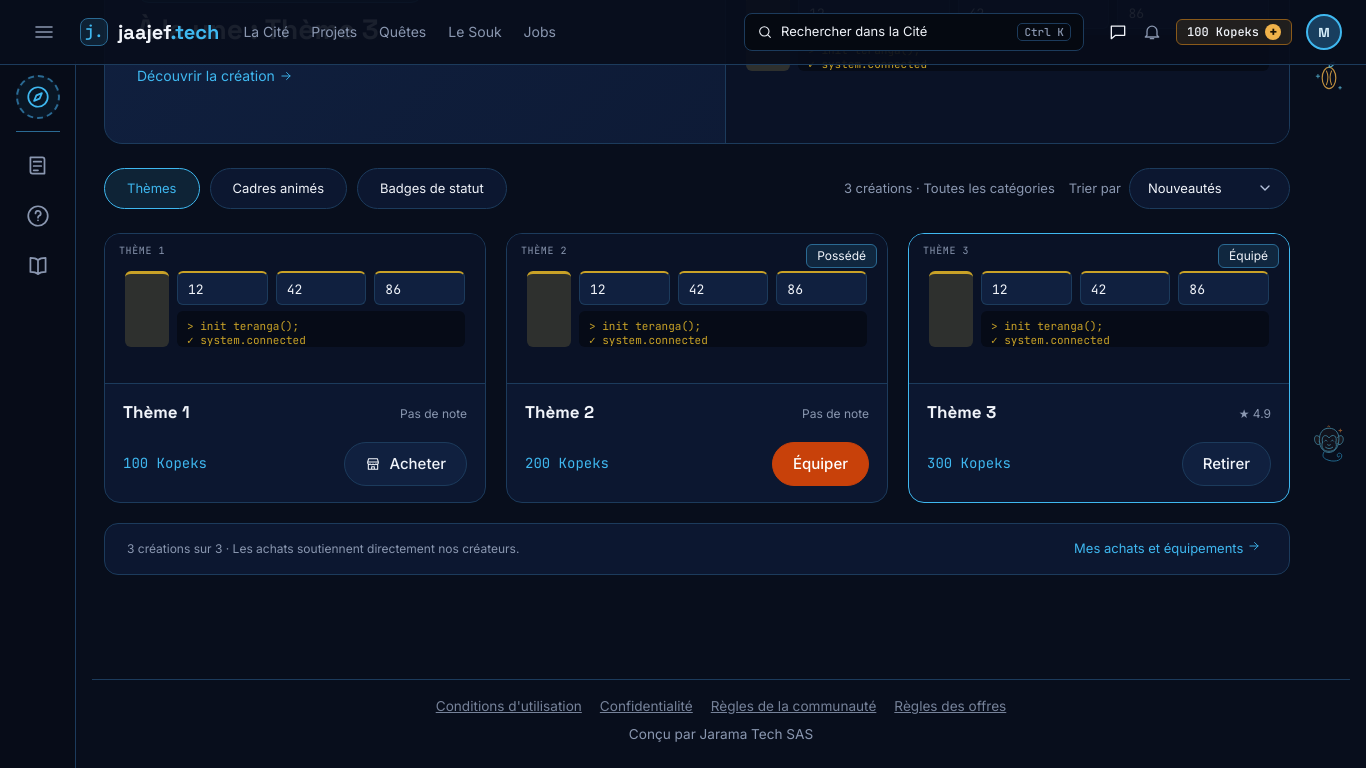
Test: Souk page › shows a plain message when there are not enough Kopeks
The image size is (1366, 768).
(page scrolled)
Click the button with aria-label "Acheter Thème 1".
click(406, 464)  # box [344,442,467,486]
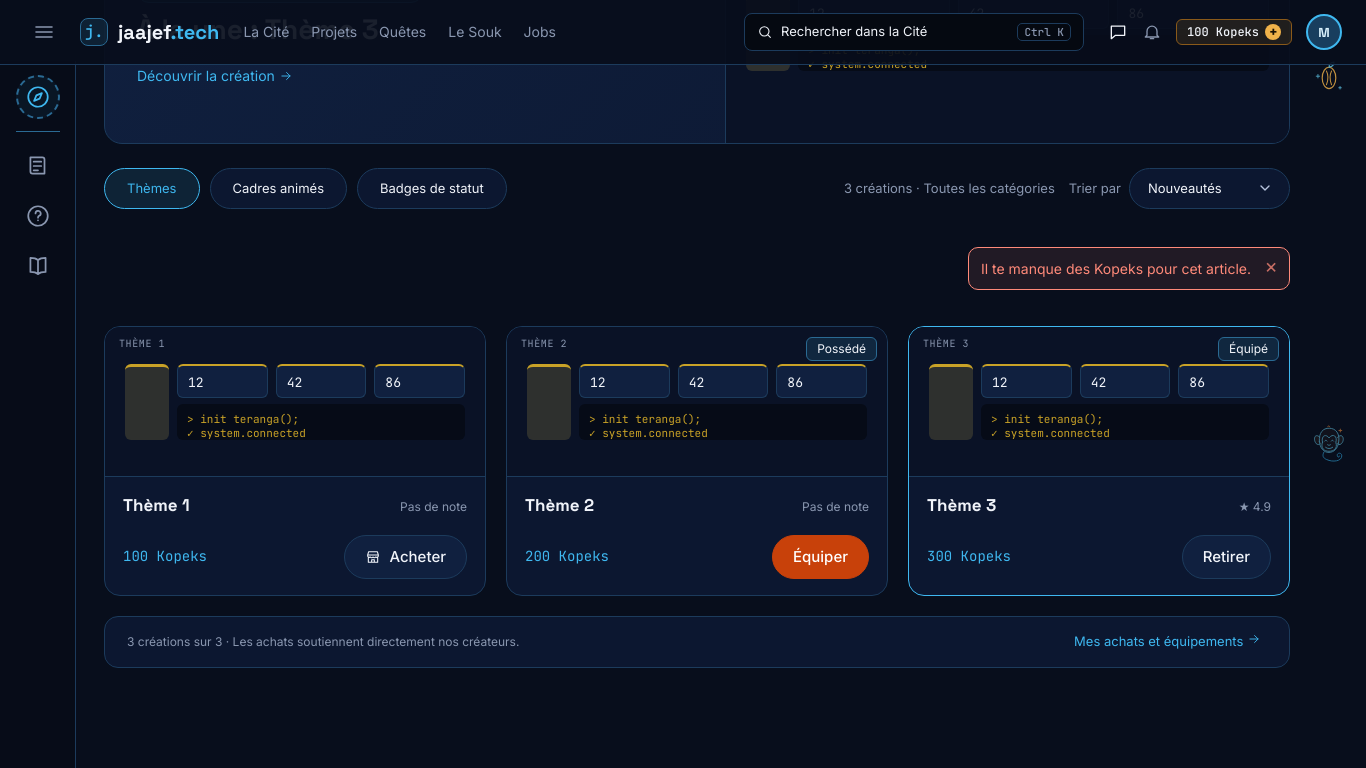
Check: the message shows "Il te manque des Kopeks", box [981,260,1251,277]
